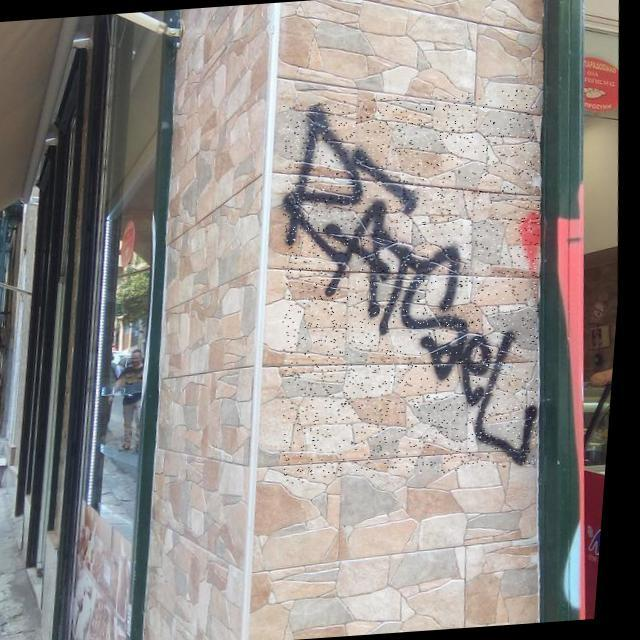-: (263, 86, 567, 484)
